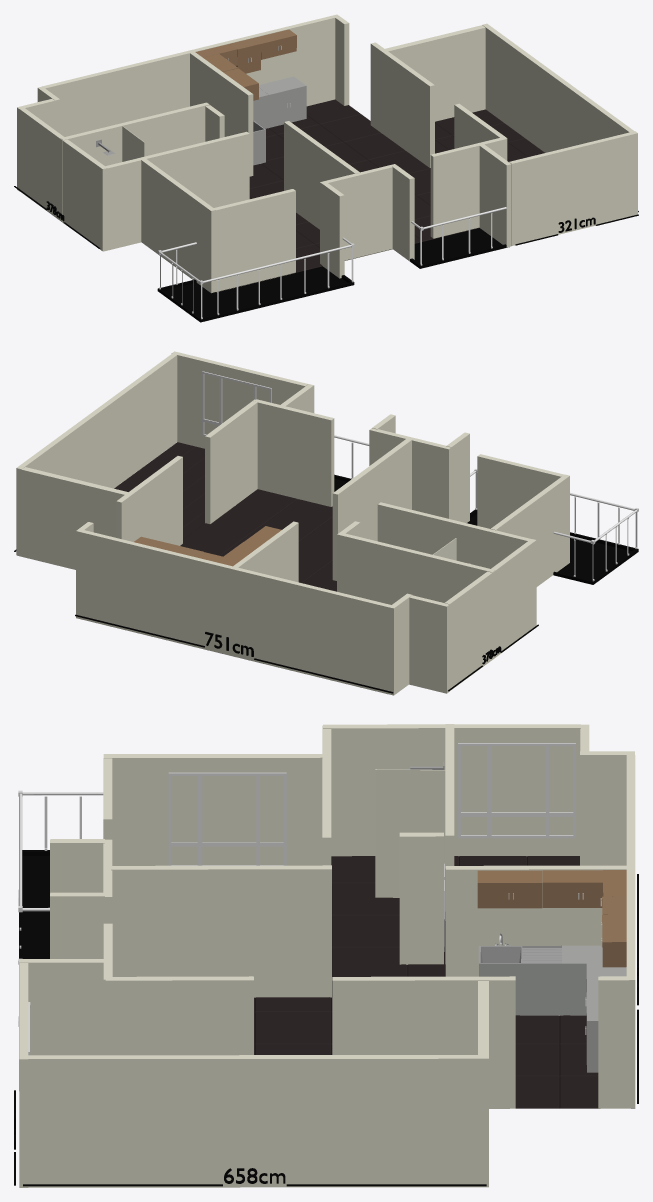
The picture shows the model from 3 angles, top to bottom: view 1: azimuth 30°, elevation 25°; view 2: azimuth 150°, elevation 25°; view 3: azimuth 270°, elevation 25°; orthographic projection. The views are drawn at different scales.
Visible parts, largest first — view 1: rightwall, leftwall.001, frontwall.001, floor, crleftwall, b2swall.002, b2mwall, frontwall, entrancewall.001, balconyfloor, b2swall.003, leftwall (+21 smaller); view 2: rightwall, frontwall.001, entrancewall.001, leftwall, leftcrwall, floor, leftwall.001, crleftwall, frontwall.002, b2wall, frontwall, b1wall (+13 smaller); view 3: frontwall.001, b2wall, b2mwall, floor, frontwall, b1wall, frontwall.002, salawall, backwall, b2mwall.004, showerGlass, crentrywall (+26 smaller).
Boxes of the visible parts, box(x1,y1,x2,y2) form: rightwall: box(42, 14, 339, 136); leftwall.001: box(509, 131, 637, 245); frontwall.001: box(482, 23, 634, 152); floor: box(213, 99, 479, 292); crleftwall: box(103, 131, 249, 251); b2swall.002: box(214, 189, 295, 291); b2mwall: box(141, 158, 215, 293); frontwall: box(370, 42, 434, 167); entrancewall.001: box(385, 25, 485, 121); balconyfloor: box(157, 266, 354, 322); b2swall.003: box(320, 164, 396, 264); leftwall: box(430, 137, 506, 238); rightwall: box(76, 529, 391, 694); frontwall.001: box(16, 354, 177, 555); entrancewall.001: box(17, 467, 128, 569); leftwall: box(254, 399, 334, 506); leftcrwall: box(337, 532, 495, 604); floor: box(180, 489, 336, 591); leftwall.001: box(171, 351, 308, 448); crleftwall: box(377, 502, 530, 568); frontwall.002: box(205, 399, 257, 523); b2wall: box(332, 438, 411, 580); frontwall: box(116, 456, 182, 545); b1wall: box(445, 571, 495, 690); frontwall.001: box(28, 1055, 488, 1187); b2wall: box(111, 865, 331, 997); b2mwall: box(103, 754, 322, 865); floor: box(254, 883, 634, 1108); frontwall: box(332, 976, 515, 1108); b1wall: box(454, 724, 580, 856); frontwall.002: box(105, 976, 253, 1055); salawall: box(445, 865, 626, 976); backwall: box(323, 724, 445, 856); b2mwall.004: box(19, 959, 103, 1090); showerGlass: box(375, 769, 445, 897); crentrywall: box(399, 832, 443, 964).
Bounding box in the file's own units: 11.3 × 2.02 × 8.81.
